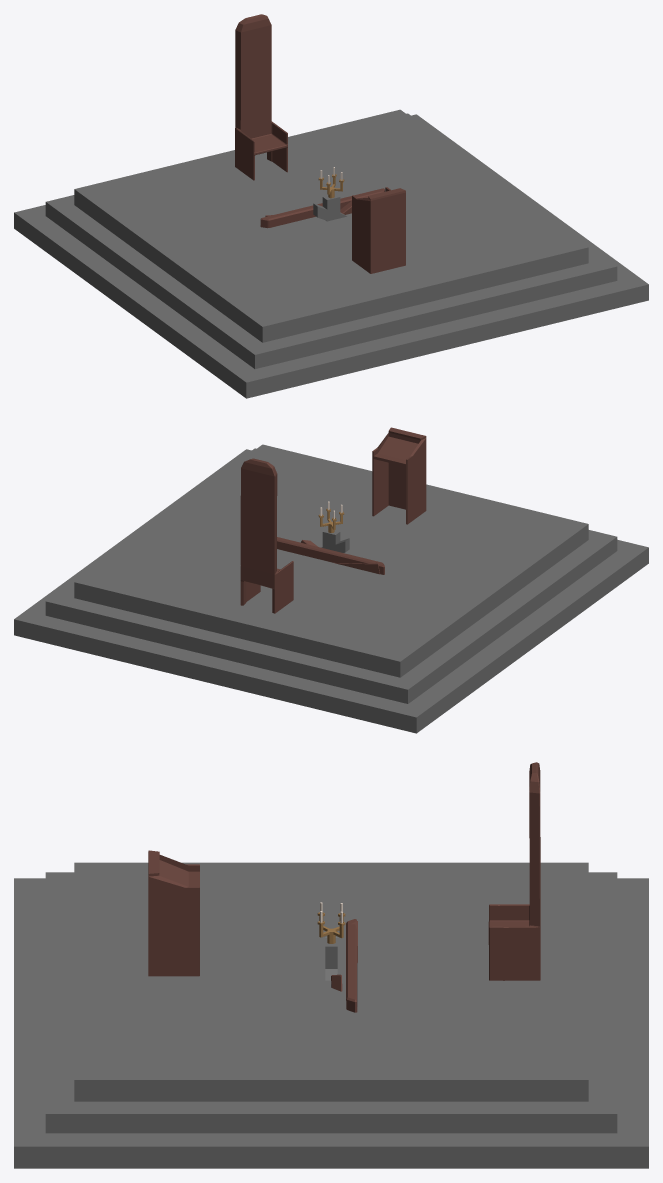
The model's file is Church_Interior.fbx.
3 renders of one model, top to bottom at view 1: azimuth 30°, elevation 25°; view 2: azimuth 150°, elevation 25°; view 3: azimuth 270°, elevation 25°, orthographic. The views are drawn at different scales.
Parts seen in each view (by area): view 1: altair1, pew_1, tombstone; view 2: altair1, pew_1, tombstone; view 3: altair1, pew_1.
Boxes of the visible parts, bbox=[...] form: altair1: bbox=[14, 14, 648, 398]; pew_1: bbox=[260, 188, 384, 228]; tombstone: bbox=[313, 193, 347, 221]; altair1: bbox=[14, 427, 648, 733]; pew_1: bbox=[277, 537, 384, 574]; tombstone: bbox=[321, 528, 349, 552]; altair1: bbox=[14, 762, 648, 1168]; pew_1: bbox=[346, 919, 357, 1012].
Size of the model in its own units: 544 by 252 by 544.
